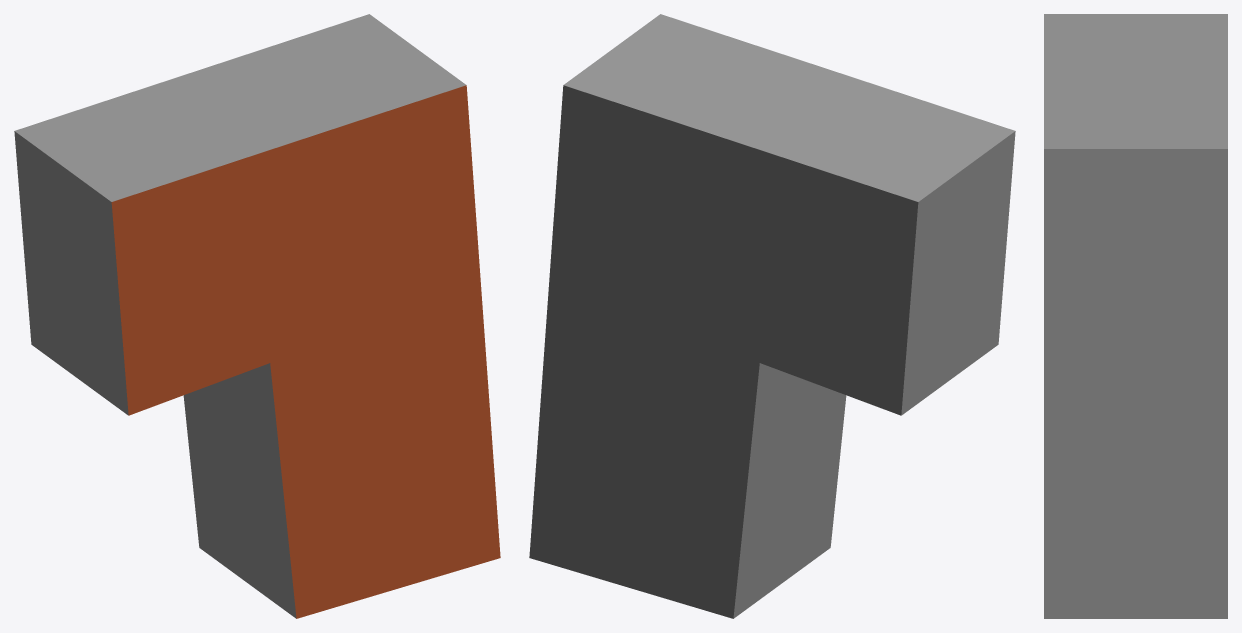
File: construction_2814_assumed_A_Casa_h6m.obj
3 views of the same model, side by side, from view 1: azimuth 30°, elevation 25°; view 2: azimuth 150°, elevation 25°; view 3: azimuth 270°, elevation 25° (orthographic). The views are drawn at different scales.
Parts seen in each view (by area): view 1: construction_2814_assumed_A_Casa; view 2: construction_2814_assumed_A_Casa; view 3: construction_2814_assumed_A_Casa.
Part boxes in pixels (x1,y1,x2,y2): construction_2814_assumed_A_Casa: [14, 14, 500, 618]; construction_2814_assumed_A_Casa: [529, 14, 1015, 618]; construction_2814_assumed_A_Casa: [1044, 14, 1227, 618].
Bounding box in the file's own units: 13.86 × 16.76 × 6.
